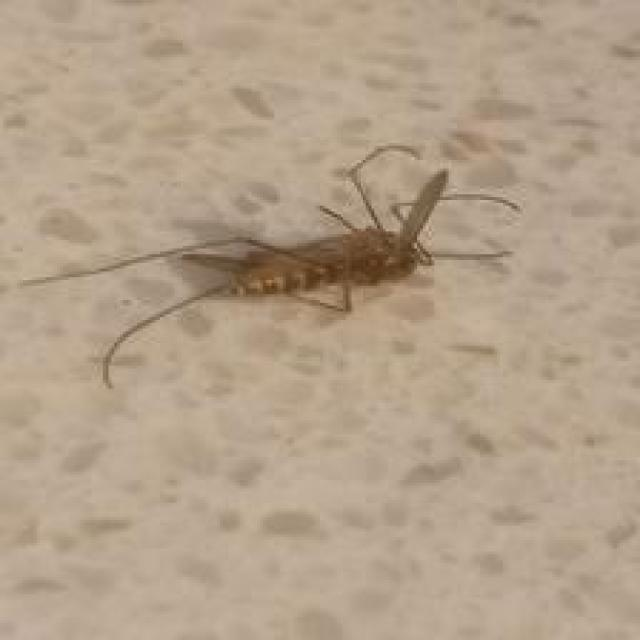Culex: (17, 141, 523, 390)
